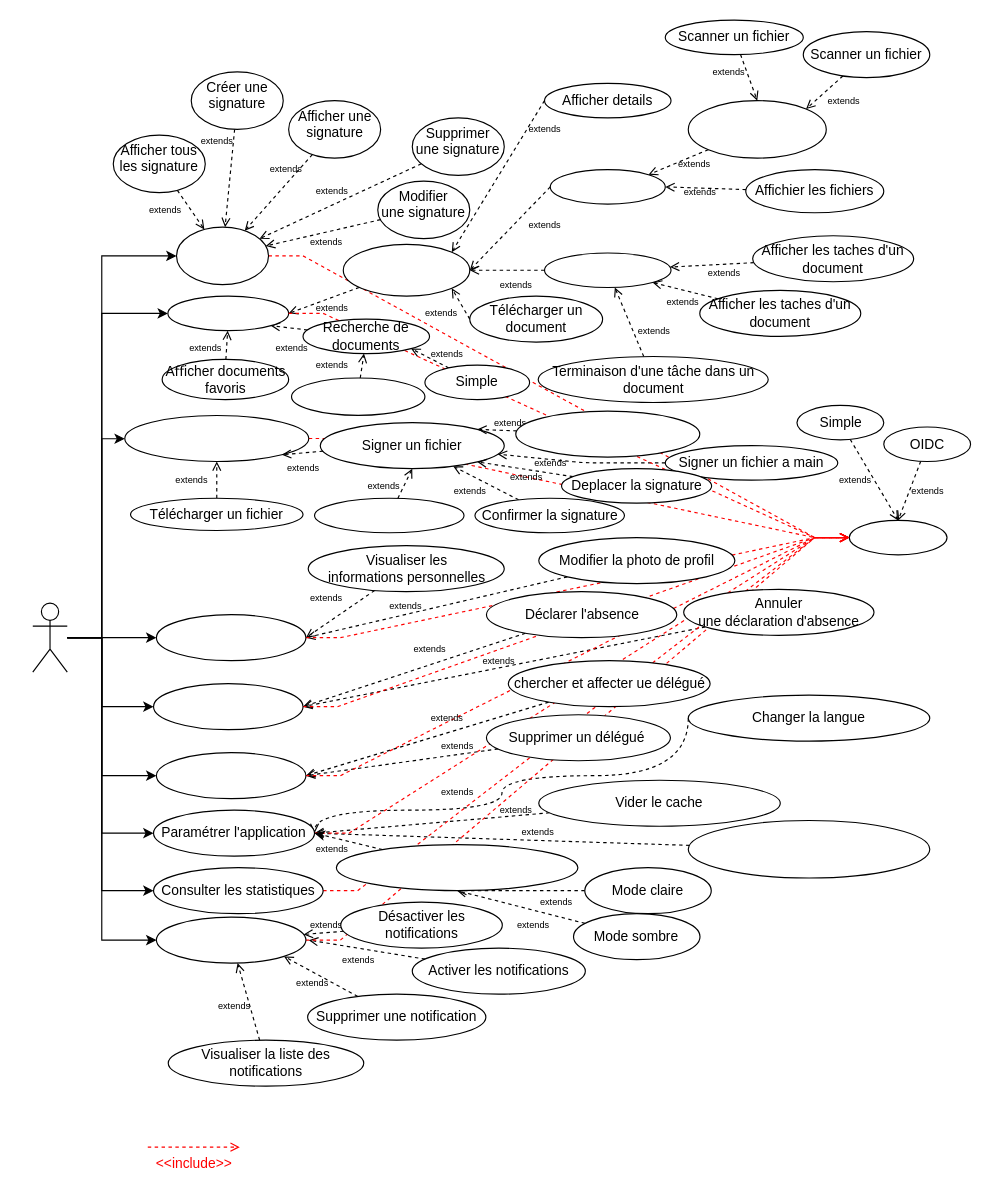
This 991x1202 diagram has some shape labels left out. Here are the shapes that lost their labels. From the top down, the box of each, then its label:
(687, 99, 826, 158): Ajout de fichiers à un document
(549, 168, 665, 204): Gérer fichiers
(175, 226, 269, 285): Gerer les signatures
(342, 243, 470, 296): Accèder aux documents
(543, 252, 671, 288): Gérer les tâches
(167, 295, 289, 331): Gérer documents
(290, 377, 425, 415): A l'aide de code QR
(124, 414, 309, 461): Visualiser un fichier
(515, 410, 700, 457): Signer un fichier avec image
(313, 497, 464, 533): Annuler la signature
(848, 519, 947, 555): Connexion
(32, 602, 67, 672): Utilisateur
(155, 614, 306, 661): Gérer le profile
(152, 683, 303, 730): Gérer absence
(155, 752, 306, 799): Gérer délégation
(335, 844, 578, 891): Gérer les préférences d'aﬀichage
(687, 819, 930, 878): lister et selectionner les espaces de travails
(155, 916, 306, 963): Gérer les notifications
